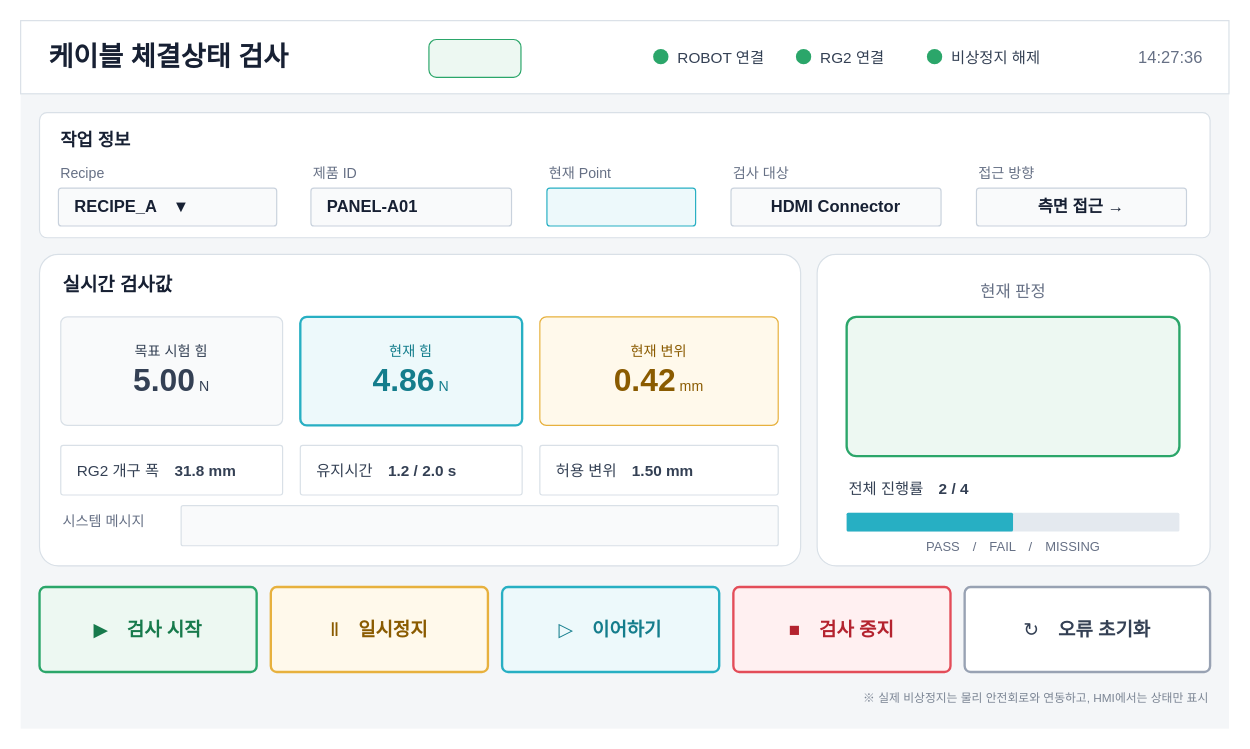
The diagram is 1250 pixels wide and 749 high, and some of its shapes have lost their labels. The shapes that lost their labels are listed below. From the top down, each one's box as (x1, y1, x2, y2) in pixels, then its label:
(428, 38, 521, 77): 준비
(546, 187, 696, 226): P02 / 4
(845, 315, 1180, 457): PASS
(180, 504, 778, 546): P02 Pull Test 진행 중 - 정상 파지 확인
